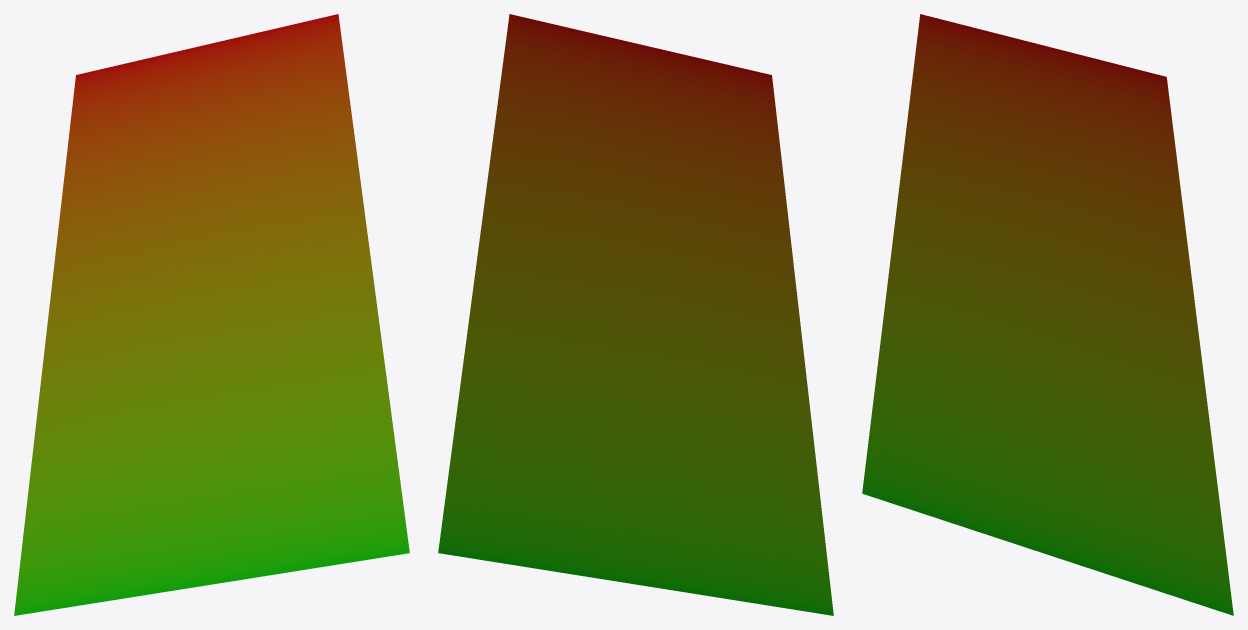
Rendered from Carnation Weed_LOD3_Var4_smdpecor.fbx.
The picture shows the model from 3 angles, left to right: view 1: azimuth 30°, elevation 25°; view 2: azimuth 150°, elevation 25°; view 3: azimuth 330°, elevation 25°; orthographic projection. The views are drawn at different scales.
Visible parts, largest first — view 1: _826e_Var4_LOD3; view 2: _826e_Var4_LOD3; view 3: _826e_Var4_LOD3.
Boxes of the visible parts, box(x1,y1,x2,y2) form: _826e_Var4_LOD3: box(14, 14, 409, 615); _826e_Var4_LOD3: box(438, 14, 833, 615); _826e_Var4_LOD3: box(862, 14, 1233, 615).
Bounding box in the file's own units: 9.55 × 12.9 × 1.79e-07.
